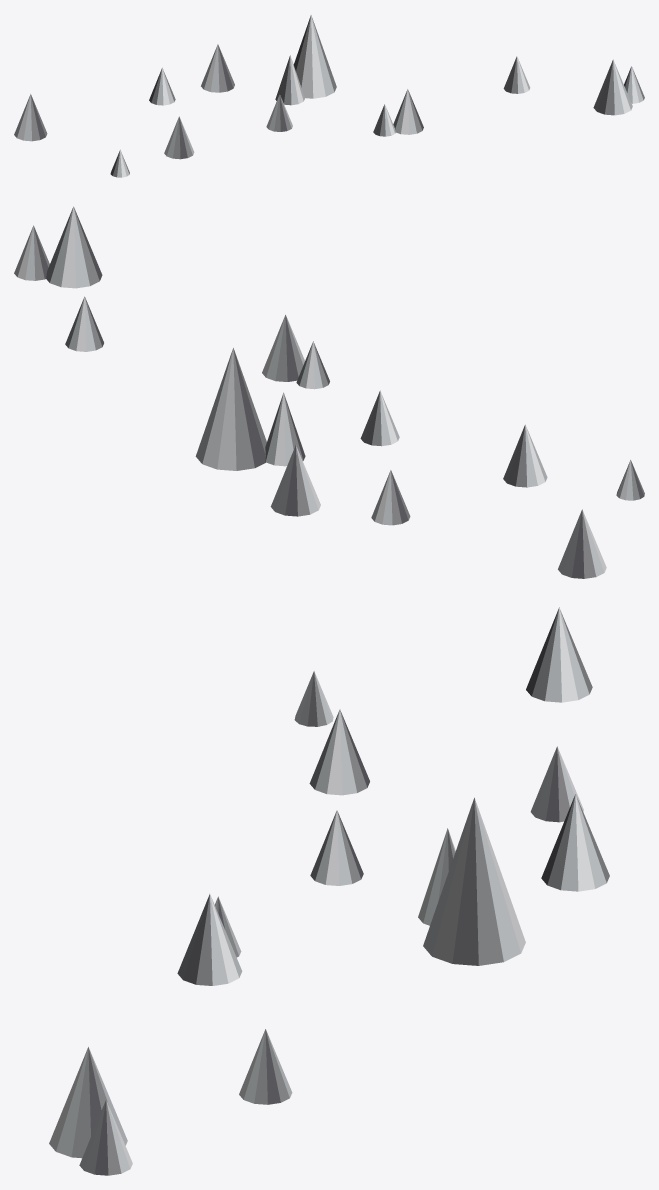
File: SM_Desierto_Conos.fbx
The picture shows the model from 3 angles, top to bottom: view 1: azimuth 30°, elevation 25°; view 2: azimuth 150°, elevation 25°; view 3: azimuth 270°, elevation 25°; orthographic projection. The views are drawn at different scales.
Visible parts, largest first — view 1: DESIERTO_CONOS; view 2: DESIERTO_CONOS; view 3: DESIERTO_CONOS.
Boxes of the visible parts, x1,y1,x2,y2 form: DESIERTO_CONOS: [14, 14, 644, 177]; DESIERTO_CONOS: [14, 206, 644, 578]; DESIERTO_CONOS: [49, 607, 609, 1175].
Bounding box in the file's own units: 6112 × 836 × 2890.
